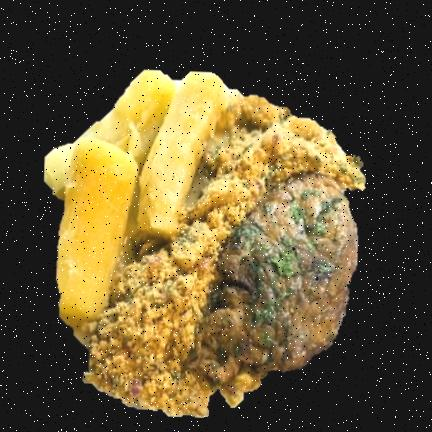cassava: (43, 69, 229, 322)
meat: (210, 178, 357, 391)
